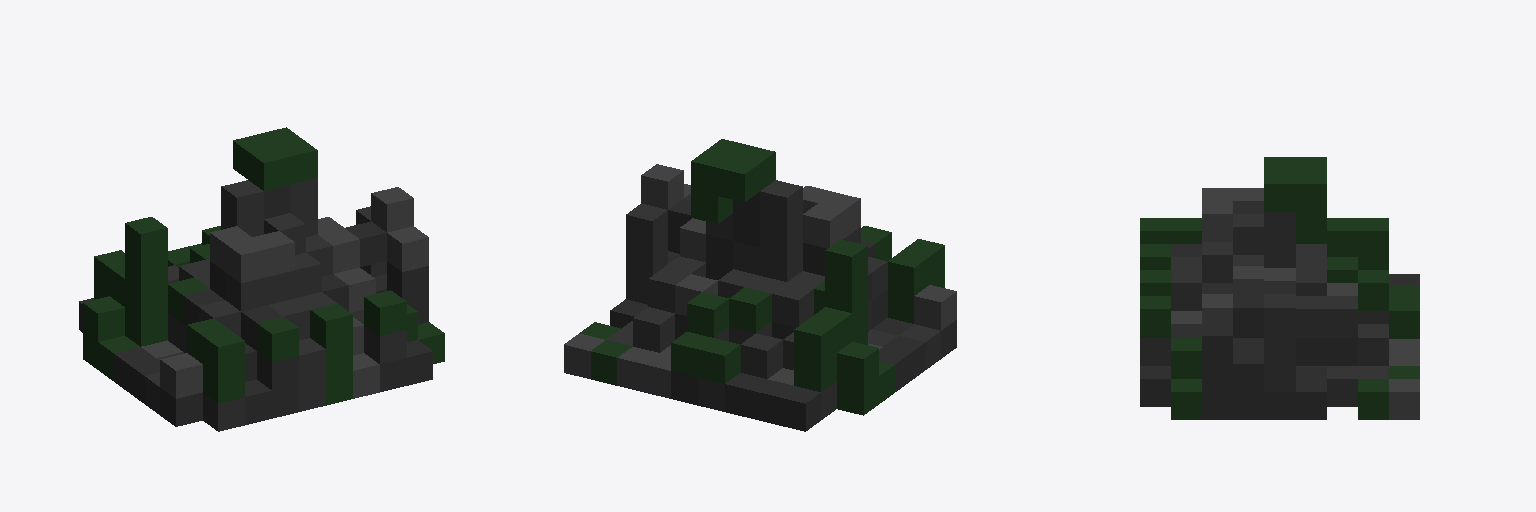
The picture shows the model from 3 angles: view 1: azimuth 30°, elevation 25°; view 2: azimuth 150°, elevation 25°; view 3: azimuth 270°, elevation 25°; orthographic projection.
Parts seen in each view (by area): view 1: object 1; view 2: object 1; view 3: object 1.
Part boxes in pixels (left/top/right/bottom): object 1: left=79, top=127, right=444, bottom=431; object 1: left=564, top=139, right=956, bottom=431; object 1: left=1140, top=157, right=1419, bottom=419.
Bounding box in the file's own units: 1 × 0.7 × 0.9.
Materials: 1 (1 with a texture image).